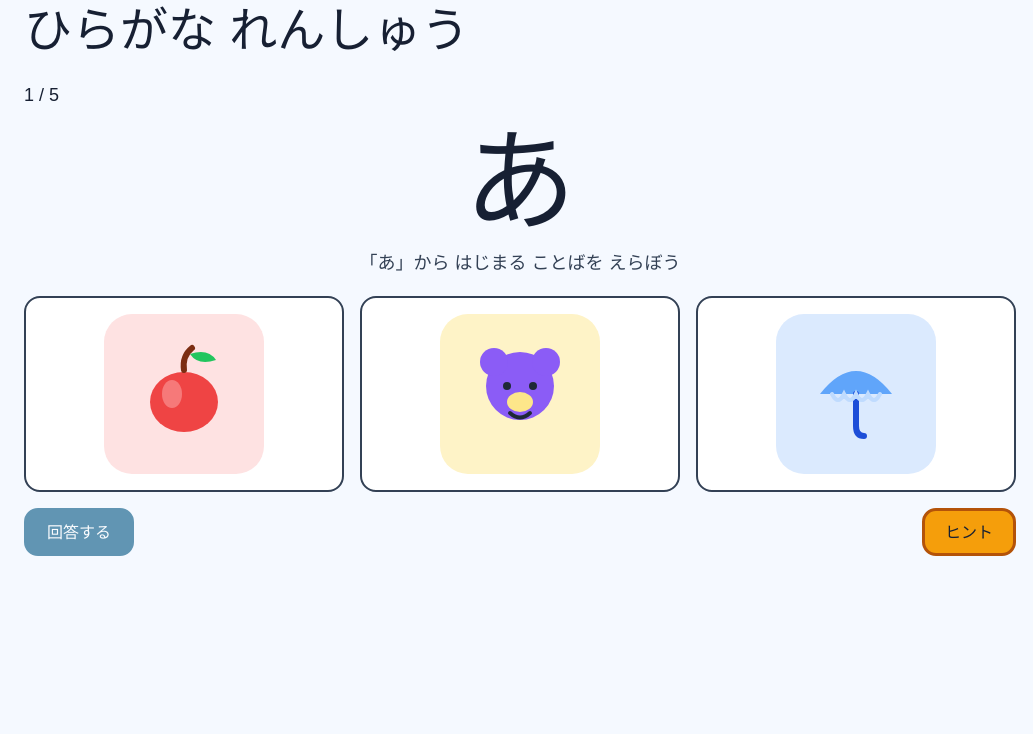
Test case: QuizPage › moves to the next question after clicking next
Click the button named "りんご".
click(184, 394)  # box [24, 296, 344, 492]
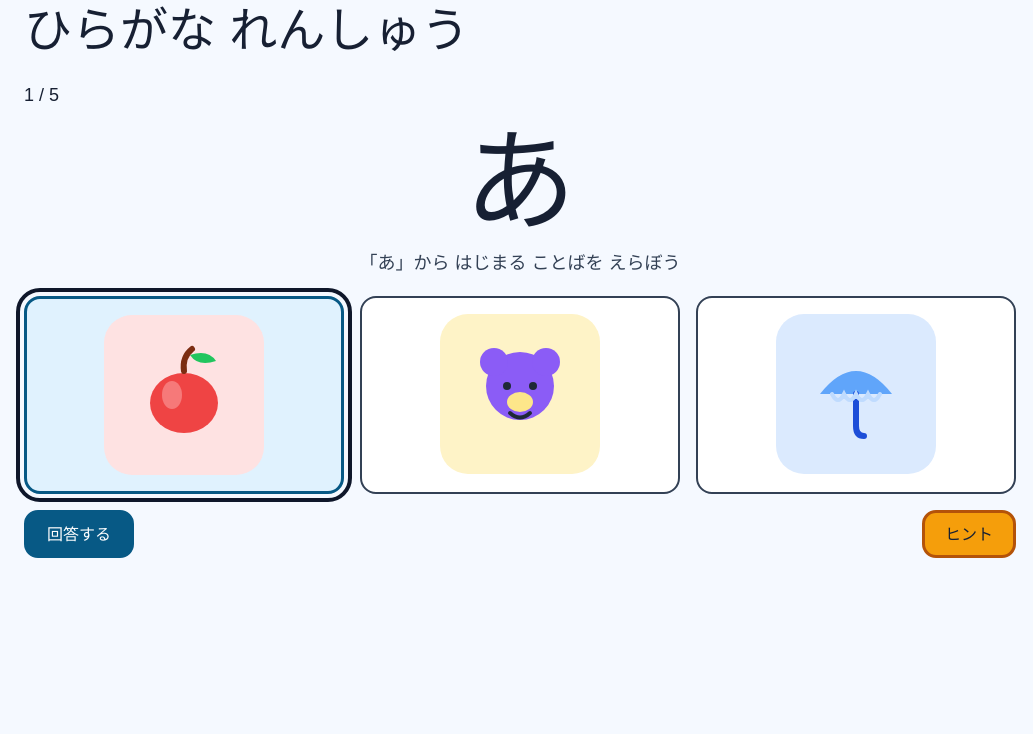
Click the button "回答する".
click(79, 534)  # box [24, 510, 134, 558]
(page scrolled)
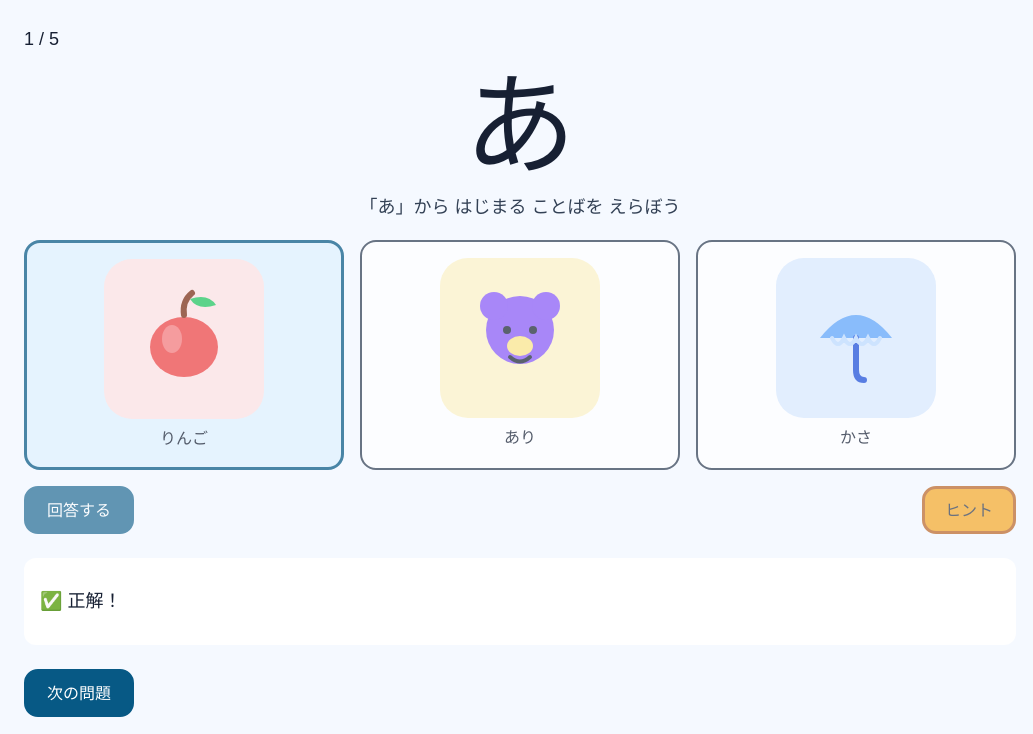
Click the button "次の問題".
click(79, 693)  # box [24, 669, 134, 717]
(page scrolled)
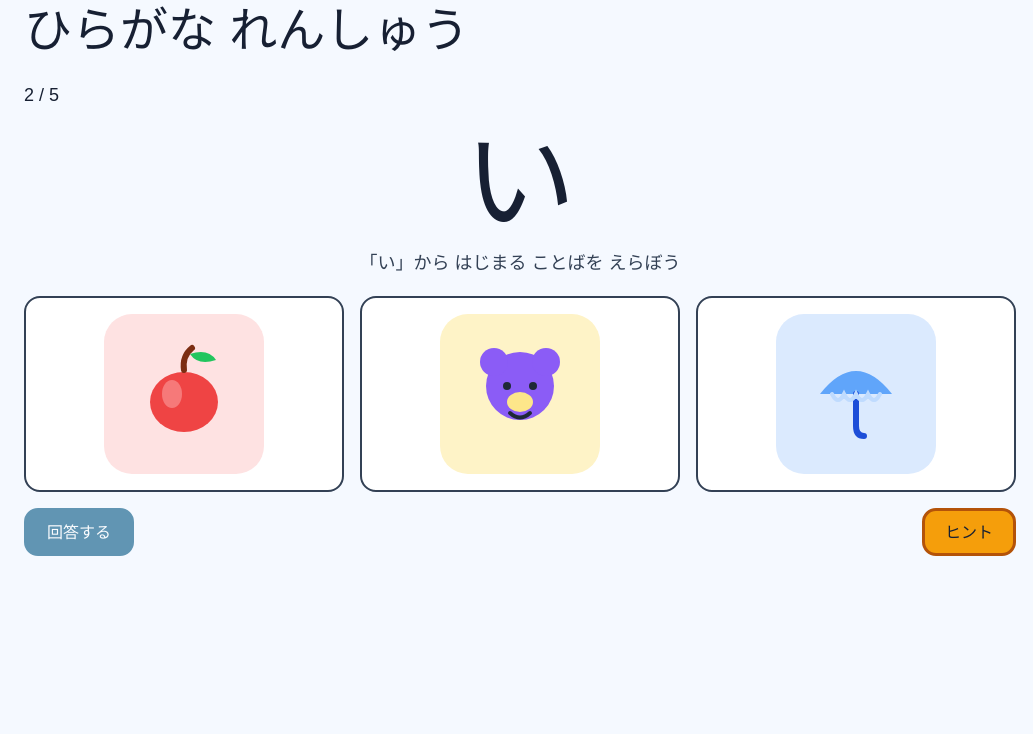
Check: the text "2 / 5" is shown, box [24, 85, 59, 105]
Check: the heading "い" is shown, box [464, 120, 576, 245]
